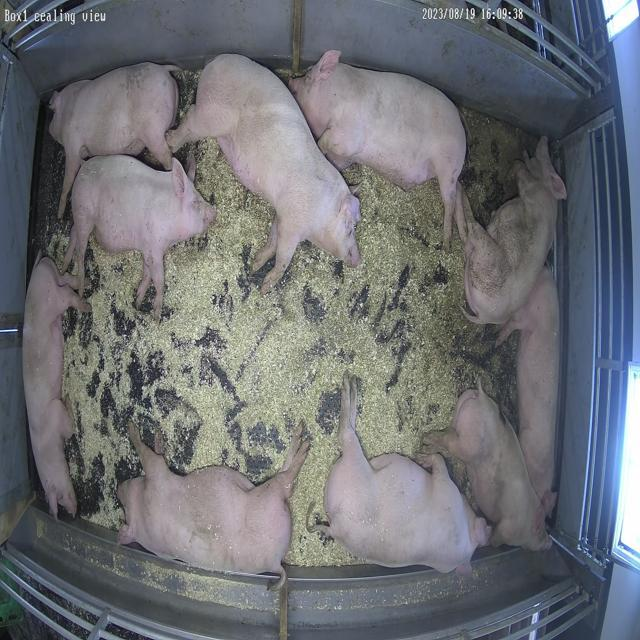Dirt: (439, 289, 520, 434), (460, 106, 540, 226)
Pig: (289, 51, 467, 250), (325, 376, 491, 574), (118, 426, 309, 574), (62, 155, 216, 320), (426, 386, 552, 552), (49, 62, 179, 218), (464, 137, 568, 324), (22, 257, 89, 518), (500, 266, 561, 516)
